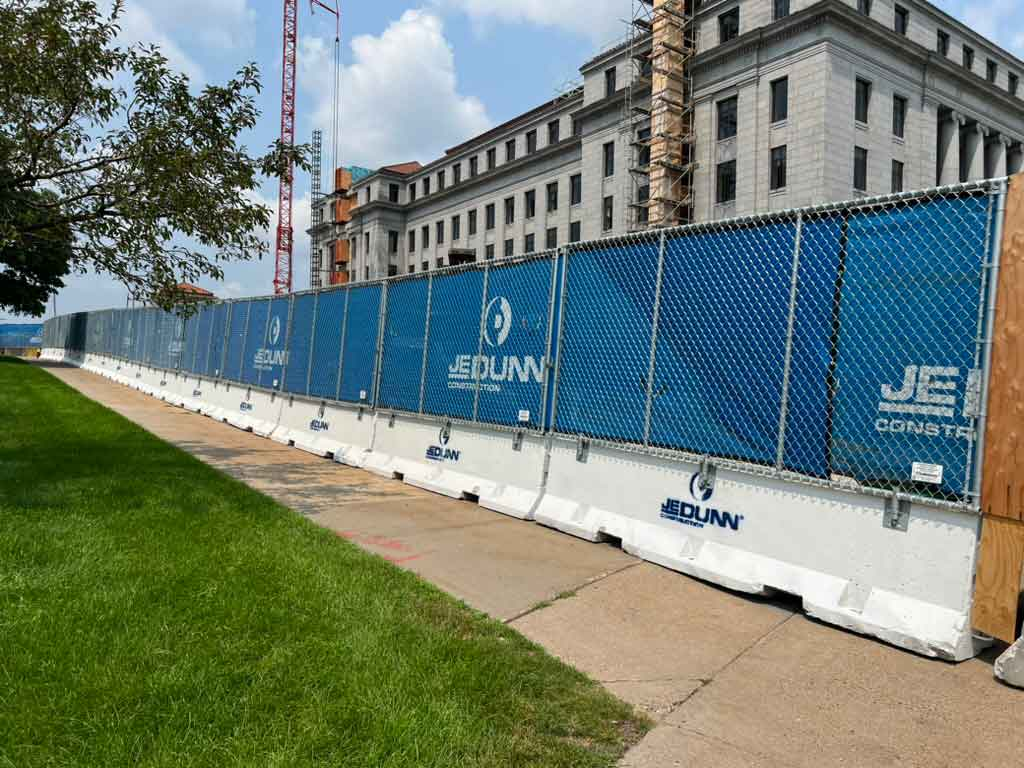Barrier: (259, 234, 1024, 559)
